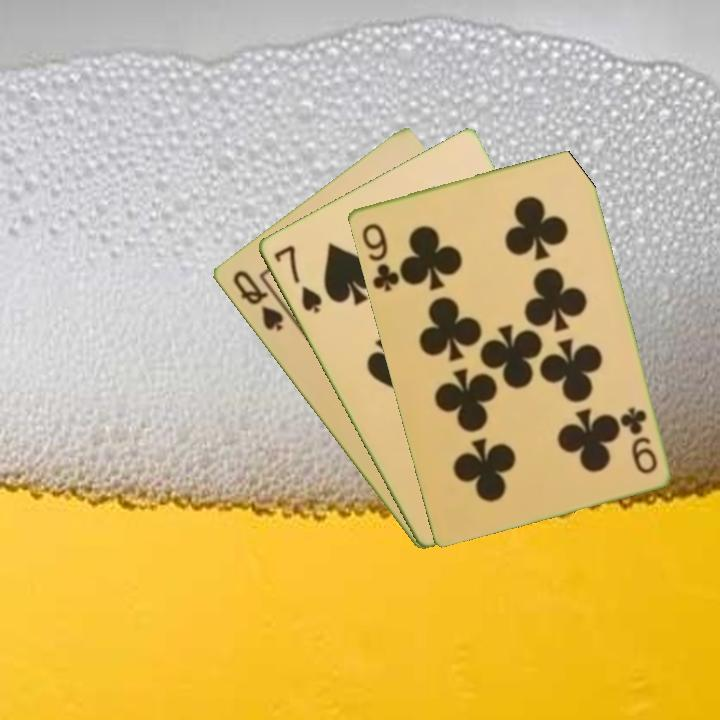7s: (269, 241, 325, 316)
9c: (358, 219, 402, 295), (616, 402, 660, 477)
Qs: (228, 266, 286, 335)
